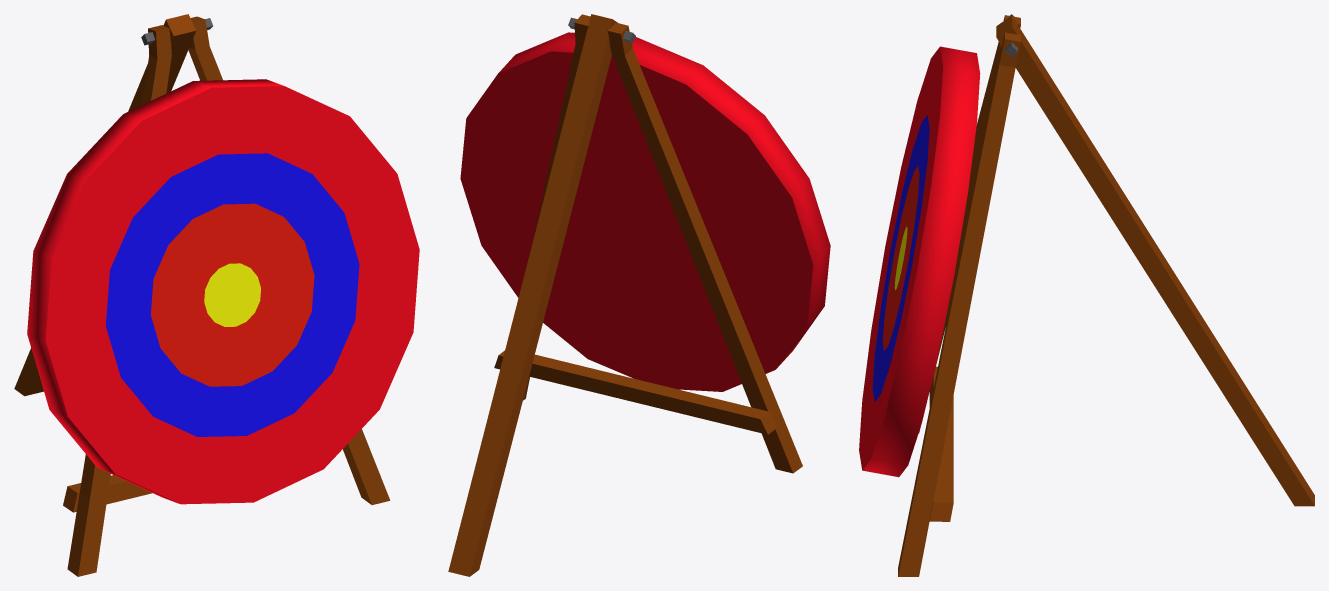
Rendered from mesh_target_red.fbx.
The picture shows the model from 3 angles, left to right: view 1: azimuth 30°, elevation 25°; view 2: azimuth 150°, elevation 25°; view 3: azimuth 270°, elevation 25°; orthographic projection. The views are drawn at different scales.
Visible parts, largest first — view 1: mesh_target_red; view 2: mesh_target_red; view 3: mesh_target_red.
Boxes of the visible parts, left/top/right/bottom form: mesh_target_red: left=14, top=14, right=419, bottom=576; mesh_target_red: left=448, top=14, right=830, bottom=576; mesh_target_red: left=859, top=14, right=1314, bottom=576.
Size of the model in its own units: 98.75 by 121 by 104.
